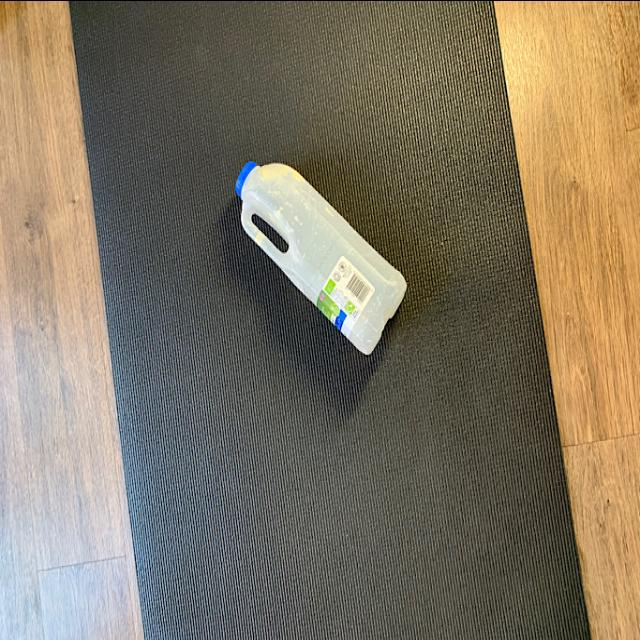HDPEM: (230, 156, 410, 352)
